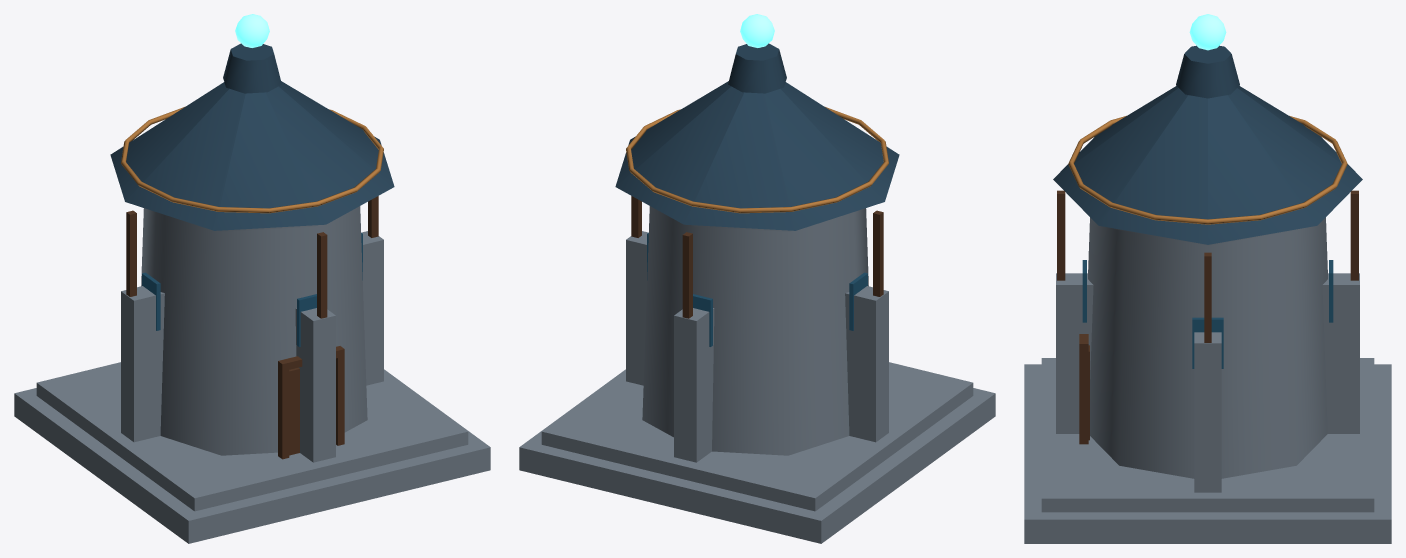
Rendered from archive-spire-lod1.glb.
The picture shows the model from 3 angles, left to right: view 1: azimuth 30°, elevation 25°; view 2: azimuth 150°, elevation 25°; view 3: azimuth 270°, elevation 25°; orthographic projection. The views are drawn at different scales.
Visible parts, largest first — view 1: MESH_archive_spire_stone, MESH_archive_spire_roof, MESH_archive_spire_timber, MESH_archive_spire_metal, MESH_archive_spire_window, MESH_archive_spire_beacon; view 2: MESH_archive_spire_stone, MESH_archive_spire_roof, MESH_archive_spire_metal, MESH_archive_spire_timber, MESH_archive_spire_window, MESH_archive_spire_beacon; view 3: MESH_archive_spire_stone, MESH_archive_spire_roof, MESH_archive_spire_timber, MESH_archive_spire_metal, MESH_archive_spire_window, MESH_archive_spire_beacon.
Part boxes in pixels (bbox=[...]): MESH_archive_spire_stone: bbox=[14, 206, 490, 543]; MESH_archive_spire_roof: bbox=[110, 43, 394, 230]; MESH_archive_spire_timber: bbox=[126, 196, 378, 459]; MESH_archive_spire_metal: bbox=[121, 106, 383, 213]; MESH_archive_spire_window: bbox=[142, 232, 362, 346]; MESH_archive_spire_beacon: bbox=[235, 14, 269, 47]; MESH_archive_spire_stone: bbox=[519, 206, 995, 543]; MESH_archive_spire_roof: bbox=[615, 43, 899, 230]; MESH_archive_spire_metal: bbox=[626, 106, 888, 213]; MESH_archive_spire_timber: bbox=[631, 196, 883, 318]; MESH_archive_spire_window: bbox=[647, 232, 867, 346]; MESH_archive_spire_beacon: bbox=[740, 14, 774, 47]; MESH_archive_spire_stone: bbox=[1024, 217, 1391, 543]; MESH_archive_spire_roof: bbox=[1053, 45, 1362, 244]; MESH_archive_spire_timber: bbox=[1057, 190, 1358, 444]; MESH_archive_spire_metal: bbox=[1068, 115, 1347, 224]; MESH_archive_spire_window: bbox=[1082, 260, 1333, 368]; MESH_archive_spire_beacon: bbox=[1189, 14, 1226, 50].
Size of the model in its own units: 9.6 by 13 by 9.6.
